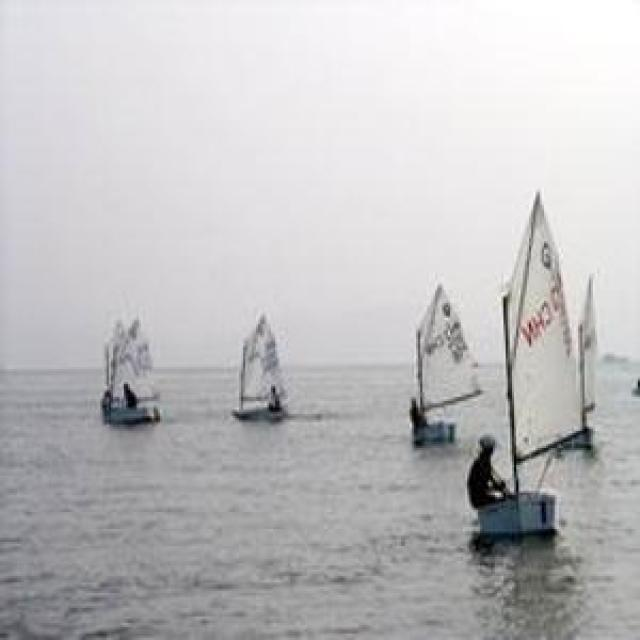sailboat: (470, 187, 578, 534), (403, 278, 482, 448), (558, 276, 600, 455), (96, 311, 161, 424), (229, 304, 290, 424)
